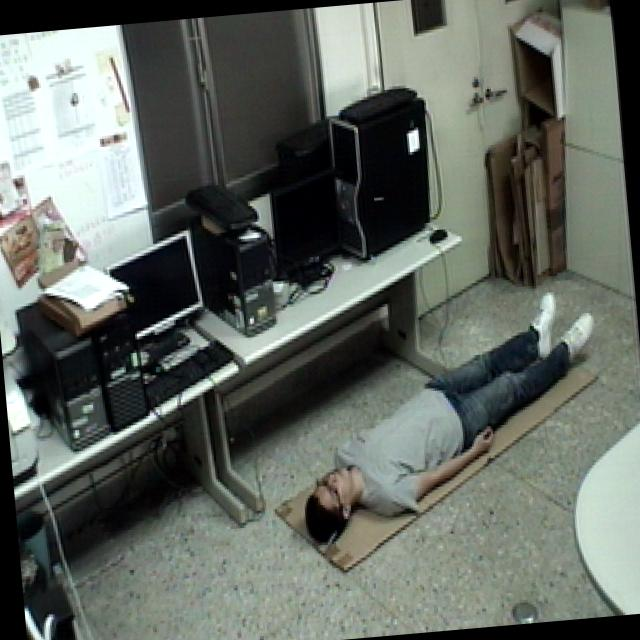lie: (281, 276, 618, 576)
